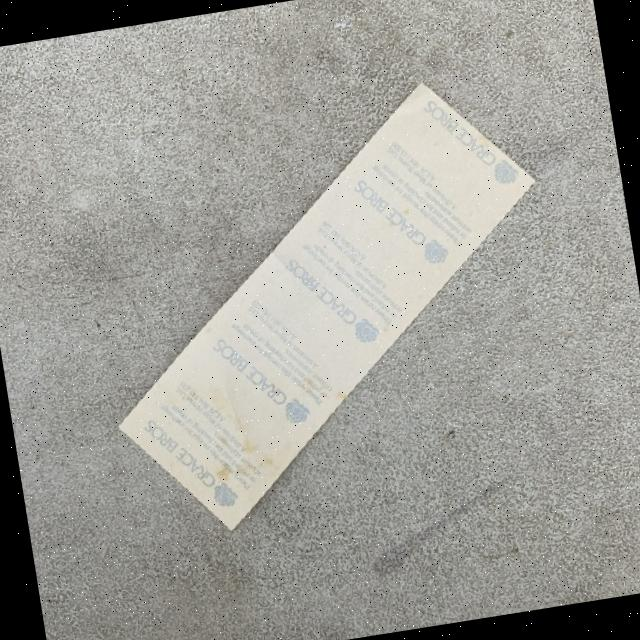paper: (71, 66, 582, 546)
